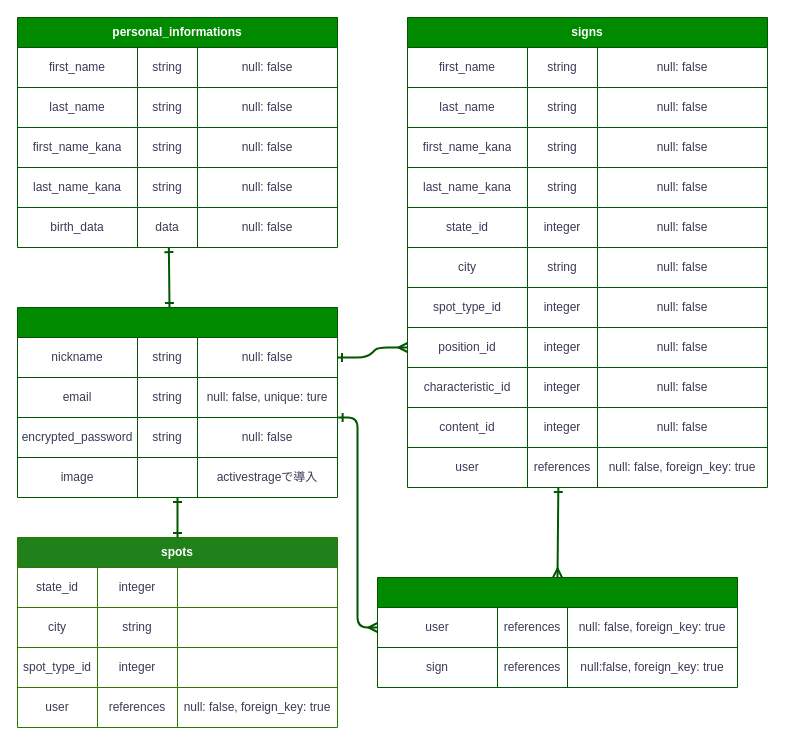
This 785x745 diagram has some shape labels left out. The box of each missing label's shape, as (x1, y1, x2, y2) in pixels:
favorites: (376, 576, 738, 688)
users: (16, 306, 338, 498)
